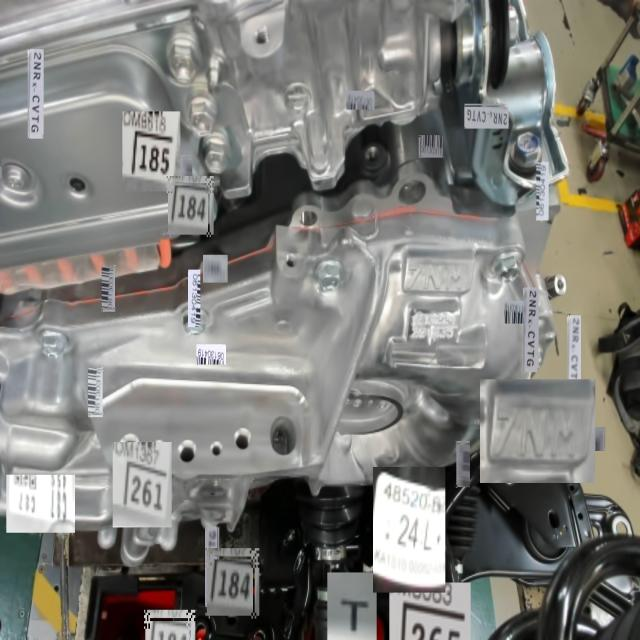Absorber LH-24: (392, 507, 438, 558)
Compressor-T: (336, 591, 372, 638)
Engine Assy-184: (211, 556, 255, 610), (176, 189, 205, 223)
Engine Assy-185: (130, 128, 173, 181)
Engine Assy-261: (121, 460, 169, 516)
Transaxele-7NM: (490, 394, 582, 466), (402, 253, 472, 300)
Transaxele-C87-A27: (11, 482, 72, 526)
